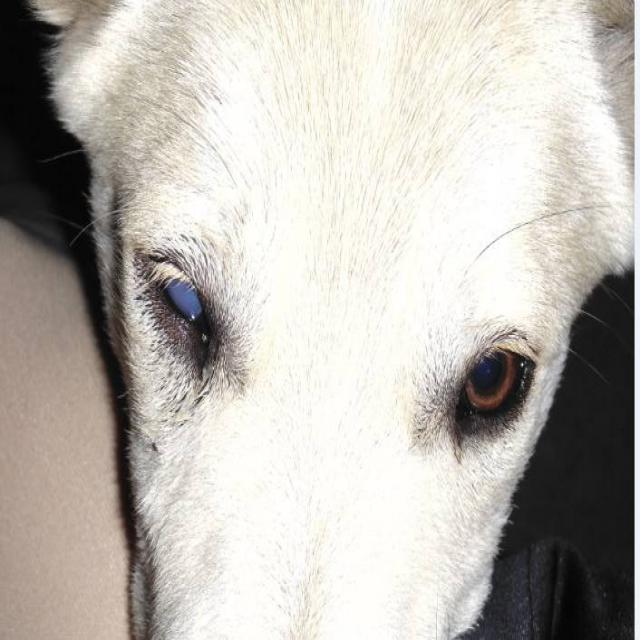eye: (443, 333, 536, 431), (142, 242, 218, 342)
